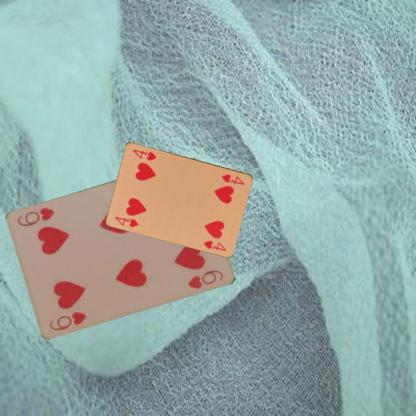4h: (219, 171, 246, 186), (112, 214, 140, 228)
6h: (47, 309, 88, 332)
